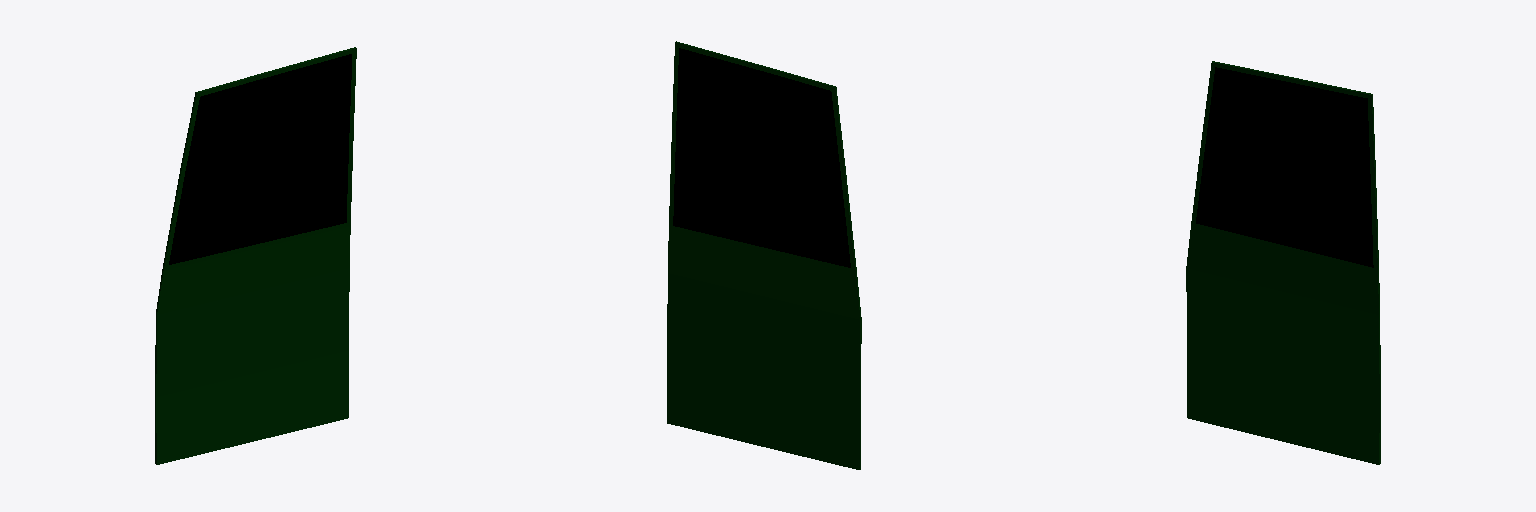
The model's file is van_backdoor_R.obj.
3 views of the same model, side by side, from view 1: azimuth 30°, elevation 25°; view 2: azimuth 150°, elevation 25°; view 3: azimuth 330°, elevation 25° (orthographic).
Visible parts, largest first — view 1: BackDoorRight; view 2: BackDoorRight; view 3: BackDoorRight.
Boxes of the visible parts, x1,y1,x2,y2 form: BackDoorRight: [155, 47, 356, 464]; BackDoorRight: [667, 41, 861, 469]; BackDoorRight: [1186, 61, 1380, 464].
Size of the model in its own units: 0.9004 by 1.68 by 0.074.